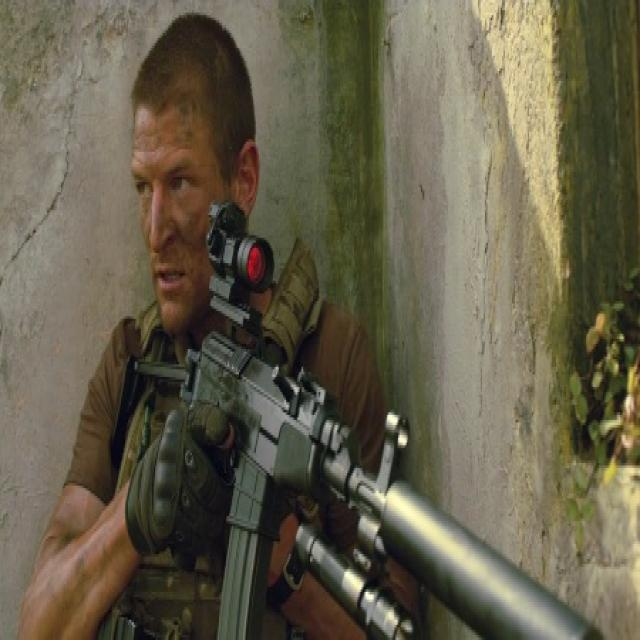rifle: (182, 206, 611, 640)
